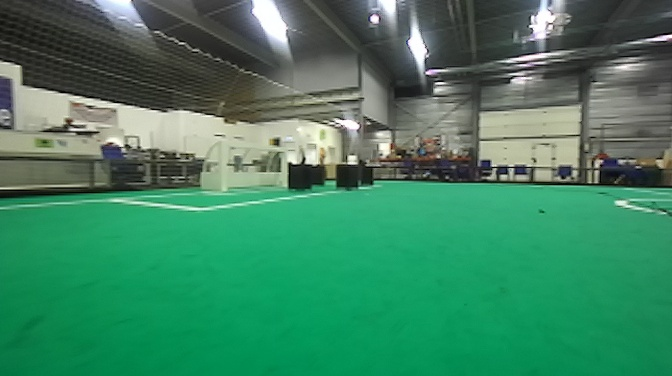goalpost: (216, 137, 228, 192), (280, 144, 290, 189)
